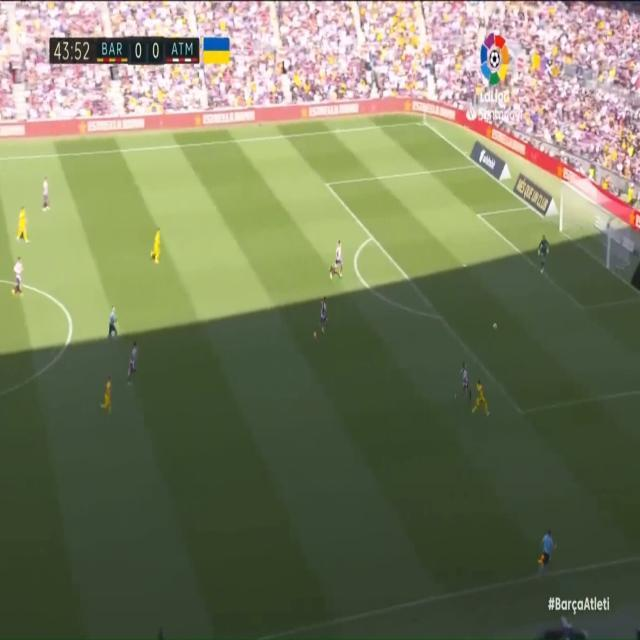ball: (489, 318, 499, 335)
goalkeeper: (535, 231, 553, 280)
player: (125, 336, 145, 396), (456, 356, 476, 414), (472, 378, 491, 428), (98, 374, 122, 412), (314, 295, 332, 343), (150, 219, 168, 262), (13, 250, 27, 300), (330, 241, 346, 279), (40, 175, 56, 211), (17, 206, 32, 242)
referee: (538, 526, 557, 569), (105, 304, 120, 336)
